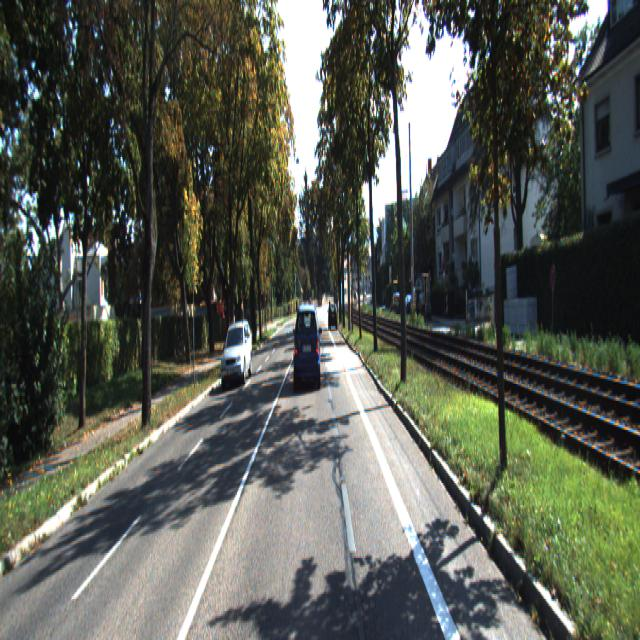Car: (293, 302, 322, 393), (220, 319, 253, 389), (329, 303, 338, 330)
